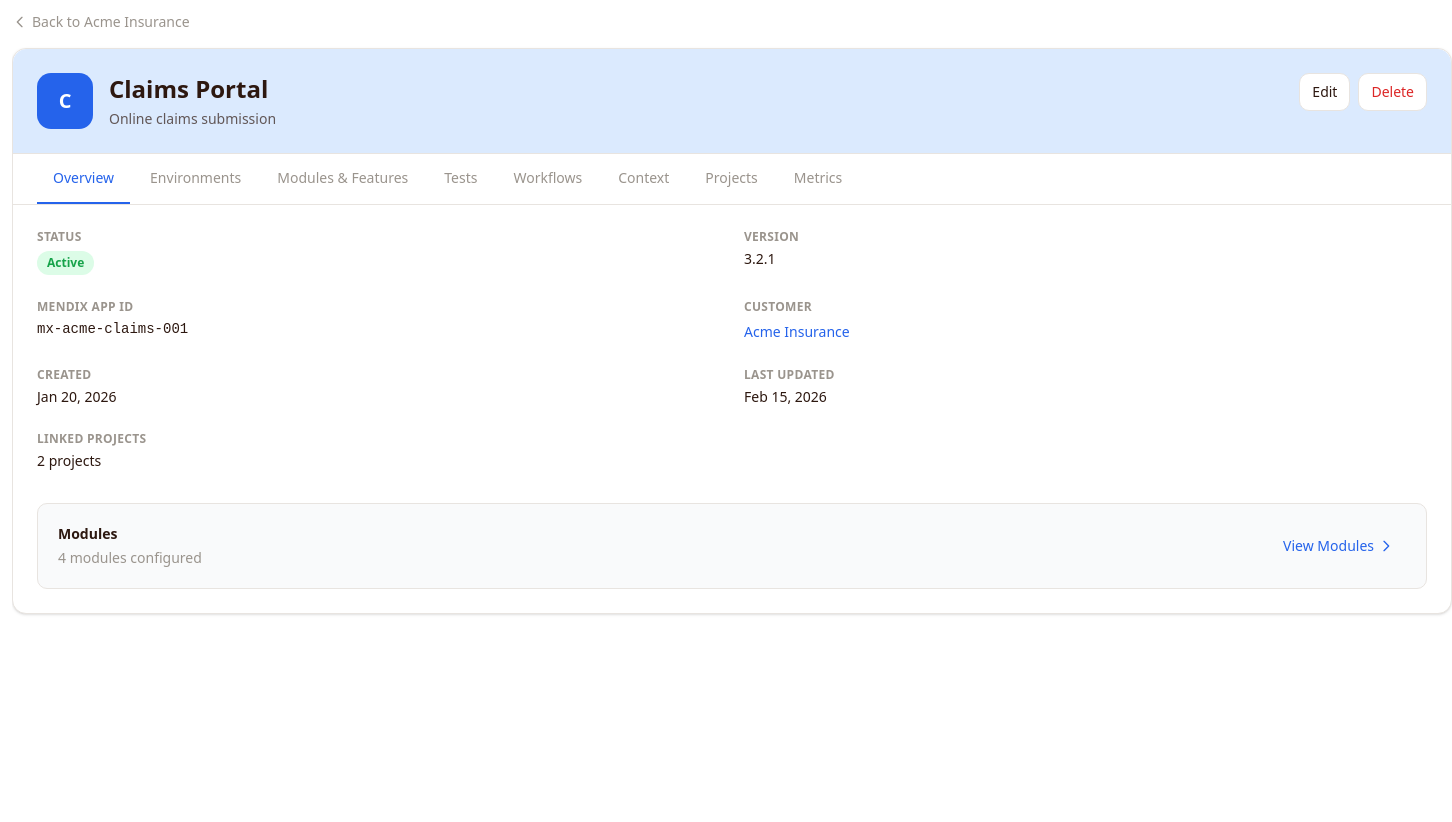
Test: AppDetail › switches to modules tab when clicked
Step 1. Click the button "Modules & Features" → [343, 179], box [261,154,424,204]
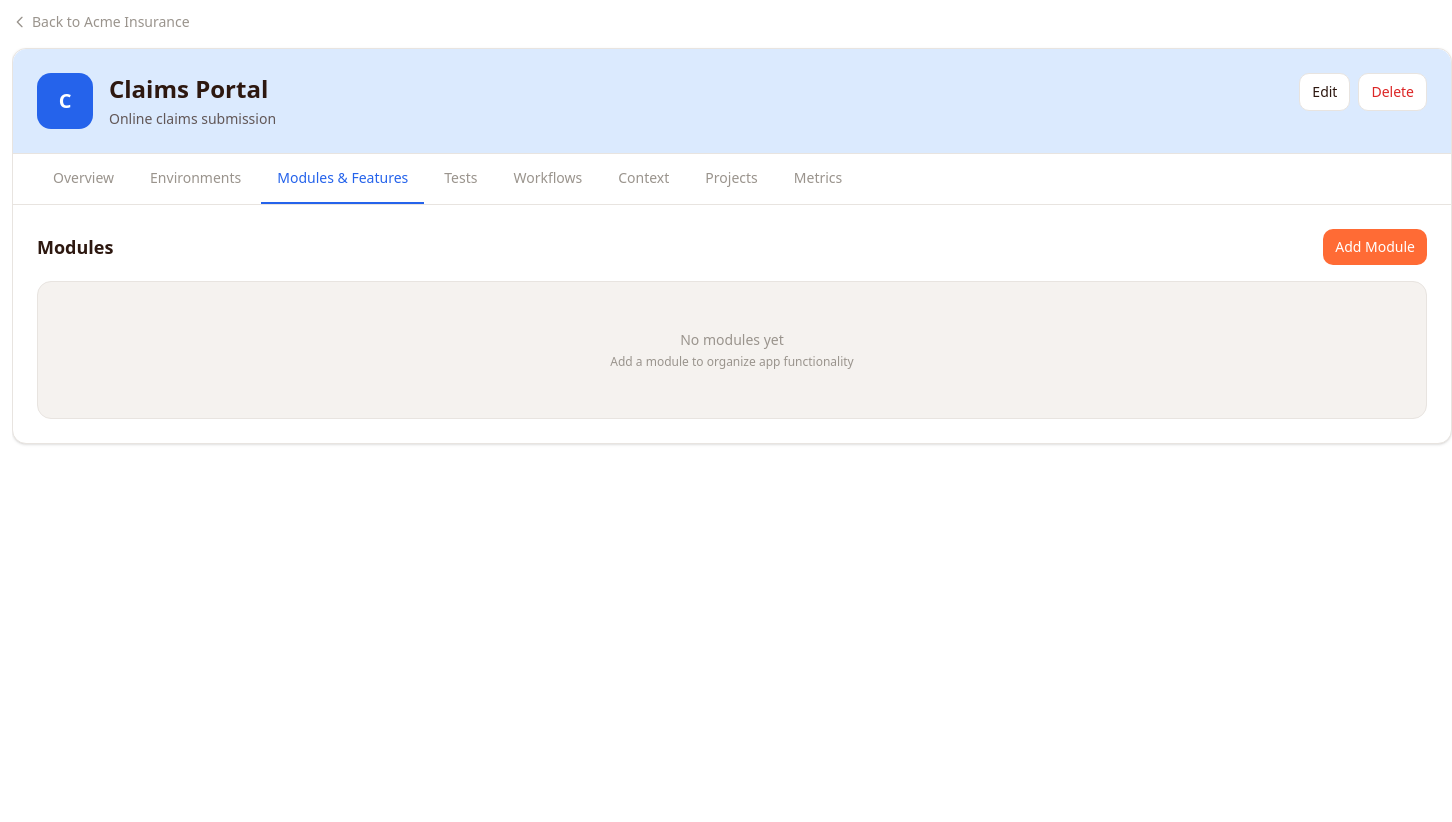
expect the heading "Modules" is shown: met, box [37,233,113,261]
expect the text "mx-acme-claims-001" is gone: met
